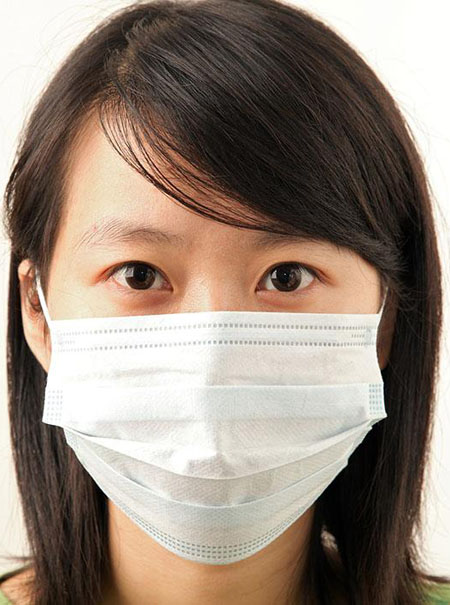face_mask: (51, 85, 366, 552)
